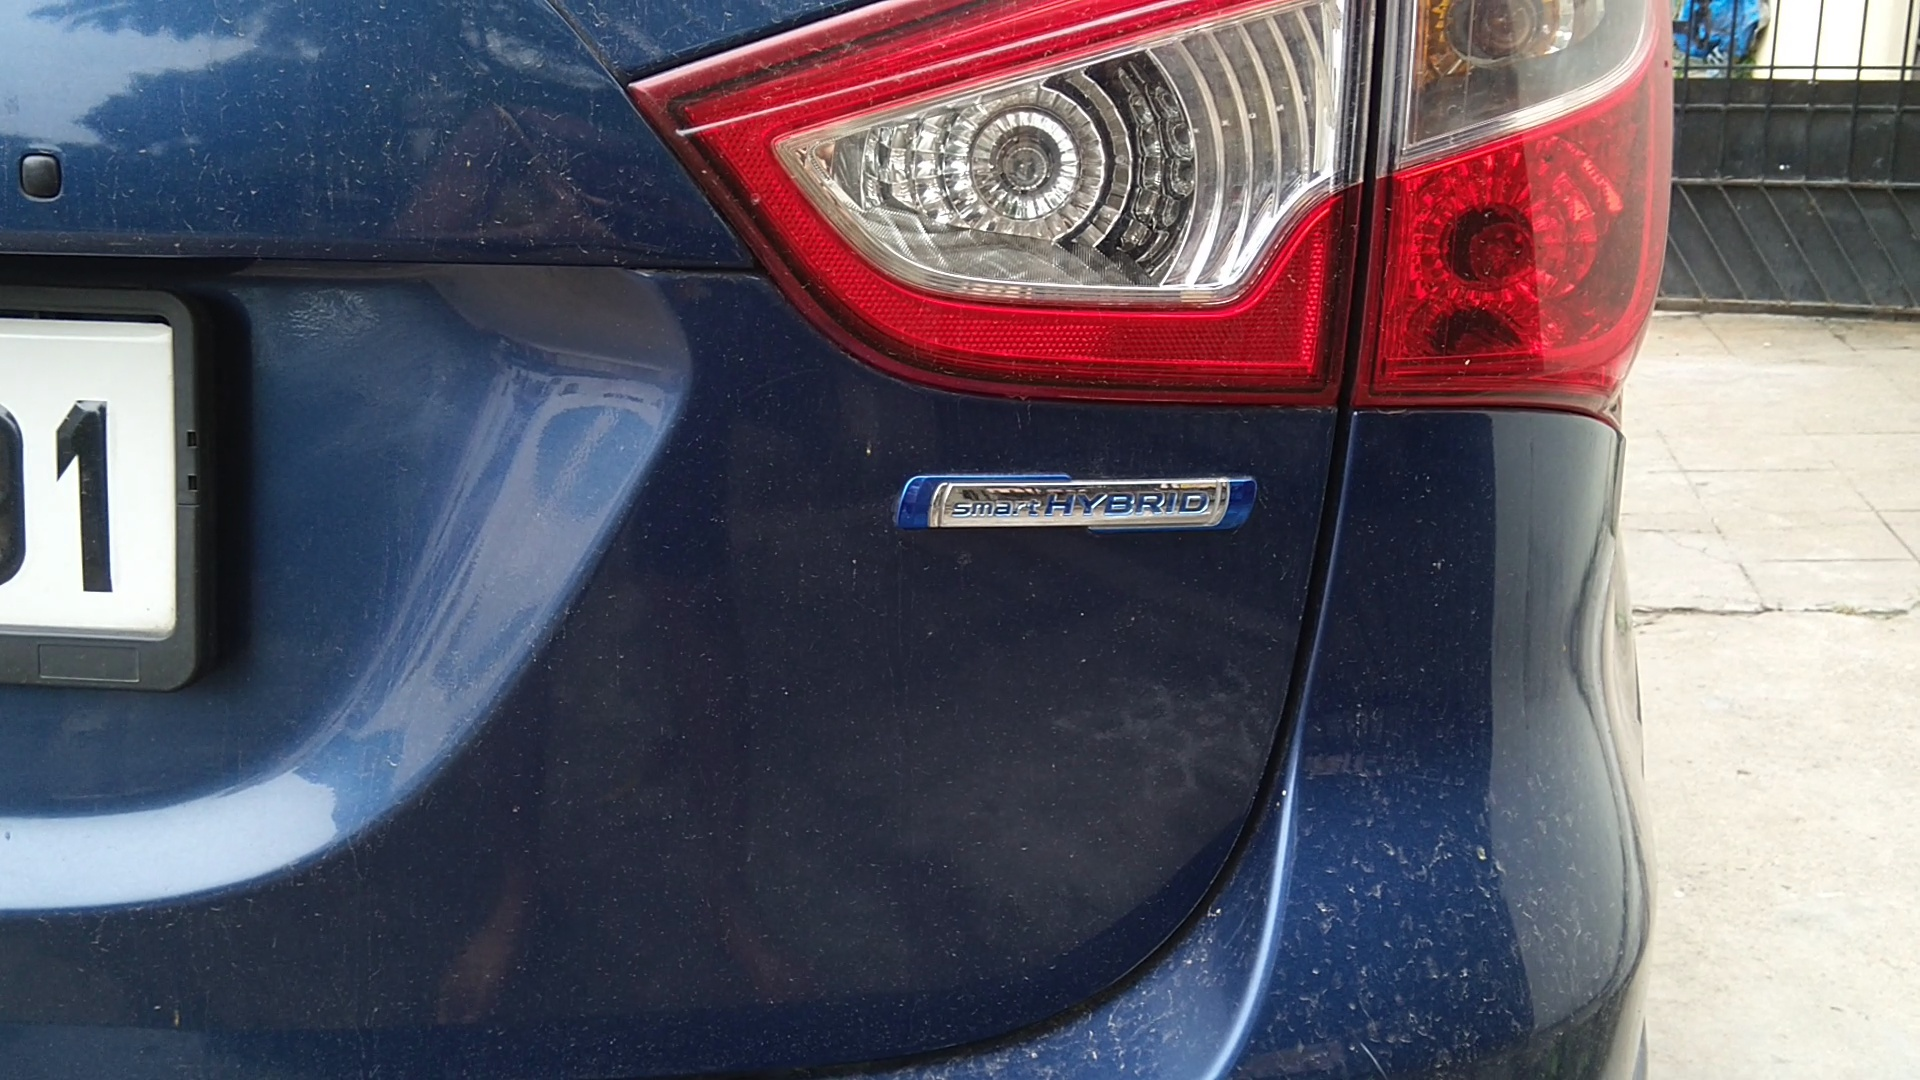shvs: (869, 440, 1280, 556)
